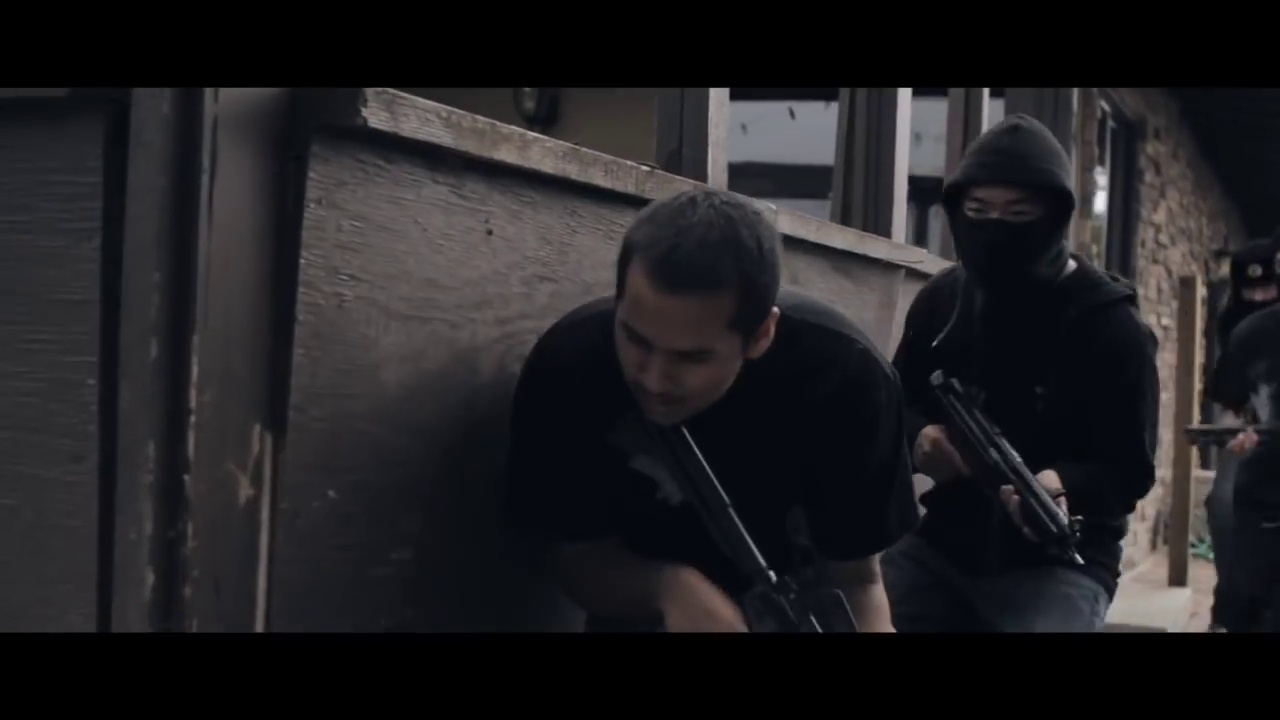gun: (628, 399, 863, 637), (923, 355, 1093, 571), (1188, 419, 1280, 456)
p_w_gun: (498, 186, 921, 637), (887, 108, 1159, 629), (1180, 293, 1280, 636)
